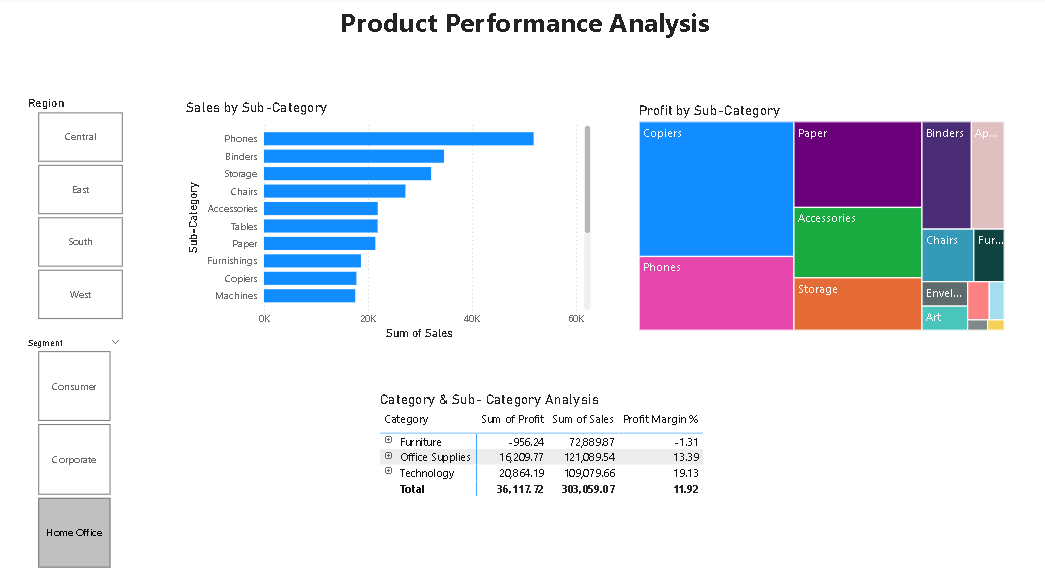

The page's visual inventory and layout, read from the dashboard file:
{"tool":"powerbi","page":{"name":"Product Analysis","canvas":[1280,720],"ordinal":1},"visuals":[{"type":"clusteredBarChart","title":"Sales by Sub-Category","fields":{"Category":["Superstore_CLeaned.Sub-Category"],"Y":["Sum(Superstore_CLeaned.Sales)"]},"box":[221.6,123.9,503.7,298.7],"z":0},{"type":"treemap","title":"Profit by Sub-Category","fields":{"Group":["Superstore_CLeaned.Sub-Category"],"Values":["Sum(Superstore_CLeaned.Profit)"]},"box":[774.9,128,455.6,283.5],"z":1000},{"type":"pivotTable","title":"Category & Sub- Category Analysis","fields":{"Rows":["Superstore_CLeaned.Category","Superstore_CLeaned.Sub-Category"],"Values":["Sum(Superstore_CLeaned.Profit)","Sum(Superstore_CLeaned.Sales)","Superstore_CLeaned.Profit Margin %"]},"box":[458.3,480.3,534,206.5],"z":2000},{"type":"slicer","fields":{"Values":["Superstore_CLeaned.Region"]},"box":[20.6,115.6,152.8,283.5],"z":3000},{"type":"slicer","fields":{"Values":["Superstore_CLeaned.Segment"]},"box":[20.6,411.5,137.6,291.8],"z":4000},{"type":"textbox","box":[0,1.4,1280,81.2],"z":5000}]}

Visuals, with their boxes in screenshot pixels (x1, y1, x2, y2), scaled from the page's 1280x720 canvas onto the 1045x585 screenshot:
"Sales by Sub-Category" clusteredBarChart: bbox(181, 101, 592, 343)
"Profit by Sub-Category" treemap: bbox(633, 104, 1005, 334)
"Category & Sub- Category Analysis" pivotTable: bbox(374, 390, 810, 558)
slicer - Superstore_CLeaned.Region: bbox(17, 94, 142, 324)
slicer - Superstore_CLeaned.Segment: bbox(17, 334, 129, 571)
textbox: bbox(0, 1, 1044, 67)
